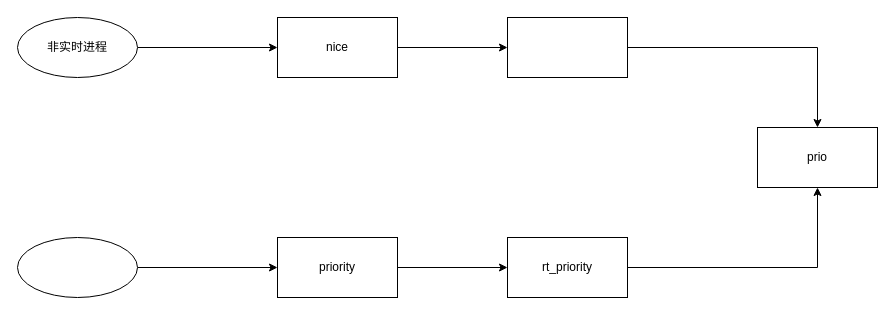
The diagram is 895 pixels wide and 315 high, and some of its shapes have lost their labels. The shapes that lost their labels are listed below. From the top down, each one's centre as x and y in pixels, then its label:
At [567,47]: "static_prio".
At [77,267]: "实时进程".
